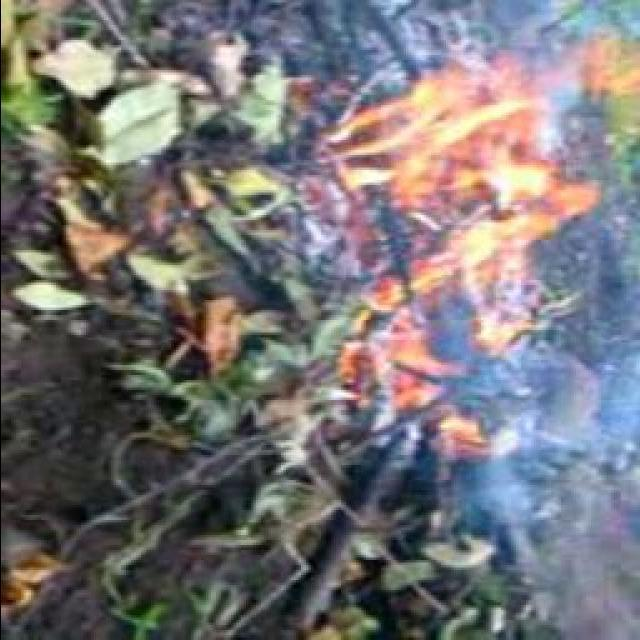Fire: (333, 48, 598, 444)
